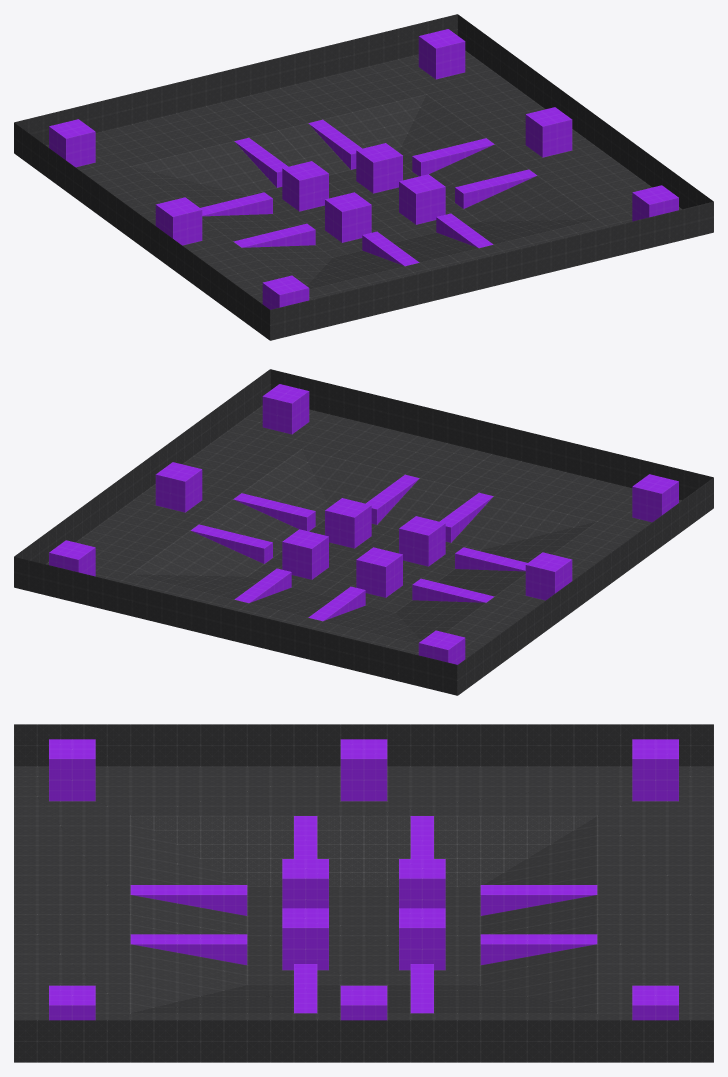
The model's file is Environment.glb.
3 renders of one model, top to bottom at view 1: azimuth 30°, elevation 25°; view 2: azimuth 150°, elevation 25°; view 3: azimuth 270°, elevation 25°, orthographic. The views are drawn at different scales.
Visible parts, largest first — view 1: Block.020-col, Block.019-col, Block.021-col, Block-col, Block.013-col, Block.017-col, Block.009-col, Block.012-col, Block.011-col, Block.010-col, Block.018-col, Block.014-col (+10 smaller); view 2: Block.021-col, Block-col, Block.020-col, Block.019-col, Block.016-col, Block.017-col, Block.010-col, Block.011-col, Block.012-col, Block.009-col, Block.018-col, Block.015-col (+10 smaller); view 3: Block-col, Block.019-col, Block.020-col, Block.021-col, Block.018-col, Block.014-col, Block.015-col, Block.009-col, Block.010-col, Block.003-col, Block.008-col, Block.004-col (+10 smaller).
Part boxes in pixels (<box>): Block.020-col: <box>236,14,585,206</box>; Block.019-col: <box>14,68,344,246</box>; Block.021-col: <box>371,108,713,286</box>; Block-col: <box>142,214,491,340</box>; Block.013-col: <box>418,29,465,79</box>; Block.017-col: <box>525,107,572,157</box>; Block.009-col: <box>356,143,402,193</box>; Block.012-col: <box>282,161,328,211</box>; Block.011-col: <box>325,192,371,242</box>; Block.010-col: <box>399,174,445,224</box>; Block.018-col: <box>155,197,202,245</box>; Block.014-col: <box>49,119,95,167</box>; Block.021-col: <box>142,369,491,561</box>; Block-col: <box>383,423,713,601</box>; Block.020-col: <box>14,463,356,641</box>; Block.019-col: <box>236,569,585,695</box>; Block.016-col: <box>262,384,309,434</box>; Block.017-col: <box>155,462,202,512</box>; Block.010-col: <box>325,498,371,548</box>; Block.011-col: <box>399,516,445,566</box>; Block.012-col: <box>356,547,402,597</box>; Block.009-col: <box>282,529,328,579</box>; Block.018-col: <box>525,552,572,600</box>; Block.015-col: <box>632,474,678,522</box>; Block-col: <box>14,724,363,935</box>; Block.019-col: <box>364,724,713,935</box>; Block.020-col: <box>364,914,713,1062</box>; Block.021-col: <box>14,914,363,1062</box>; Block.018-col: <box>340,739,387,801</box>; Block.014-col: <box>632,739,678,801</box>; Block.015-col: <box>49,739,95,801</box>; Block.009-col: <box>399,908,445,970</box>; Block.010-col: <box>282,908,328,970</box>; Block.003-col: <box>130,934,247,965</box>; Block.008-col: <box>480,934,597,965</box>; Block.004-col: <box>130,885,247,915</box>.
Size of the model in its own units: 60 by 6 by 60.
Materials: 2 (2 with a texture image).
